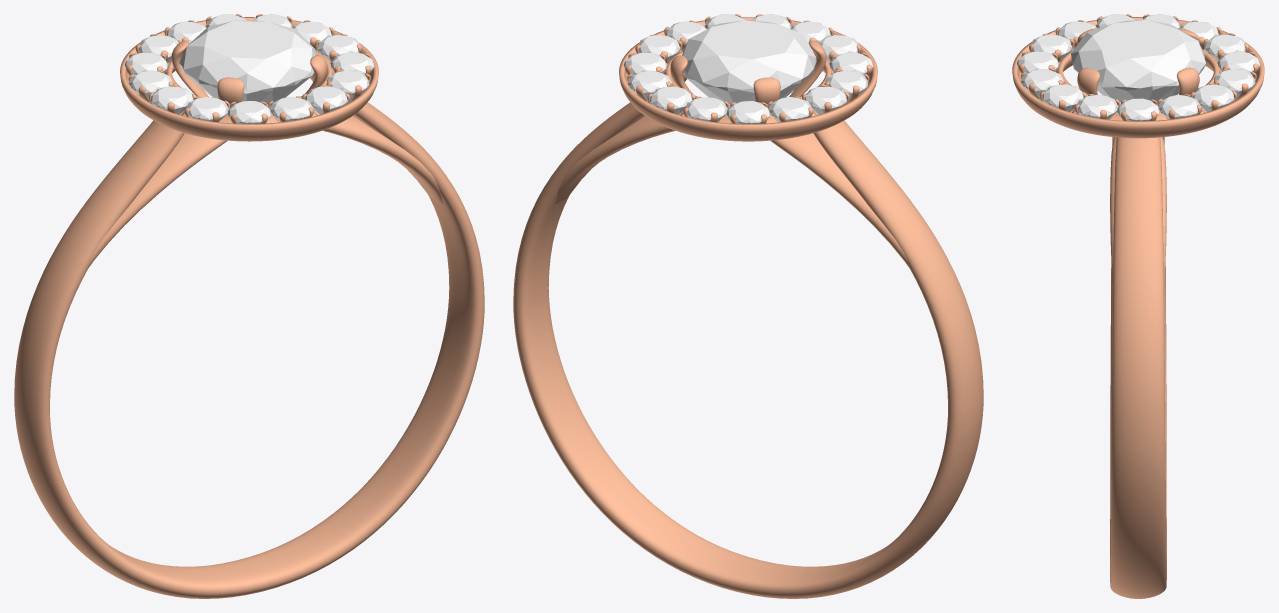
Rendered from DiamondRing01.glb.
3 views of the same model, side by side, from view 1: azimuth 30°, elevation 25°; view 2: azimuth 150°, elevation 25°; view 3: azimuth 270°, elevation 25° (orthographic). The views are drawn at different scales.
Parts seen in each view (by area): view 1: Shank, Diamond Smalls, Diamond Main, Halo Torus, Shank Bridge, Claw Main.001, Claw Main.002; view 2: Shank, Diamond Smalls, Diamond Main, Halo Torus, Shank Bridge, Claw Main.001, Claw Main.002; view 3: Shank, Diamond Smalls, Diamond Main, Halo Torus, Shank Bridge, Claw Main, Claw Main.003.
Boxes of the visible parts, x1,y1,x2,y2 form: Shank: (14, 73, 484, 598); Diamond Smalls: (125, 14, 374, 123); Diamond Main: (179, 20, 316, 103); Halo Torus: (120, 17, 378, 141); Shank Bridge: (88, 116, 442, 267); Claw Main.001: (217, 77, 244, 103); Claw Main.002: (171, 40, 208, 97); Shank: (513, 74, 983, 598); Diamond Smalls: (623, 14, 873, 123); Diamond Main: (682, 20, 816, 103); Halo Torus: (619, 17, 877, 141); Shank Bridge: (555, 116, 909, 268); Claw Main.001: (789, 40, 826, 97); Claw Main.002: (753, 77, 780, 103); Shank: (1110, 137, 1166, 598); Diamond Smalls: (1017, 14, 1260, 121); Diamond Main: (1071, 19, 1205, 101); Halo Torus: (1012, 17, 1264, 138); Shank Bridge: (1110, 137, 1166, 285); Claw Main: (1176, 67, 1199, 95); Claw Main.003: (1077, 67, 1100, 94).
Bounding box in the file's own units: 7.5 × 8.6 × 3.68.
